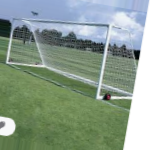goals: (5, 17, 137, 102)
